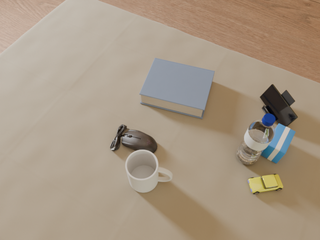book: (139, 58, 215, 119)
bottle: (236, 114, 276, 165)
box: (261, 123, 295, 163)
cup: (126, 149, 172, 192)
mouse: (110, 125, 157, 153)
phone: (260, 84, 298, 127)
toy_car: (248, 174, 283, 194)
